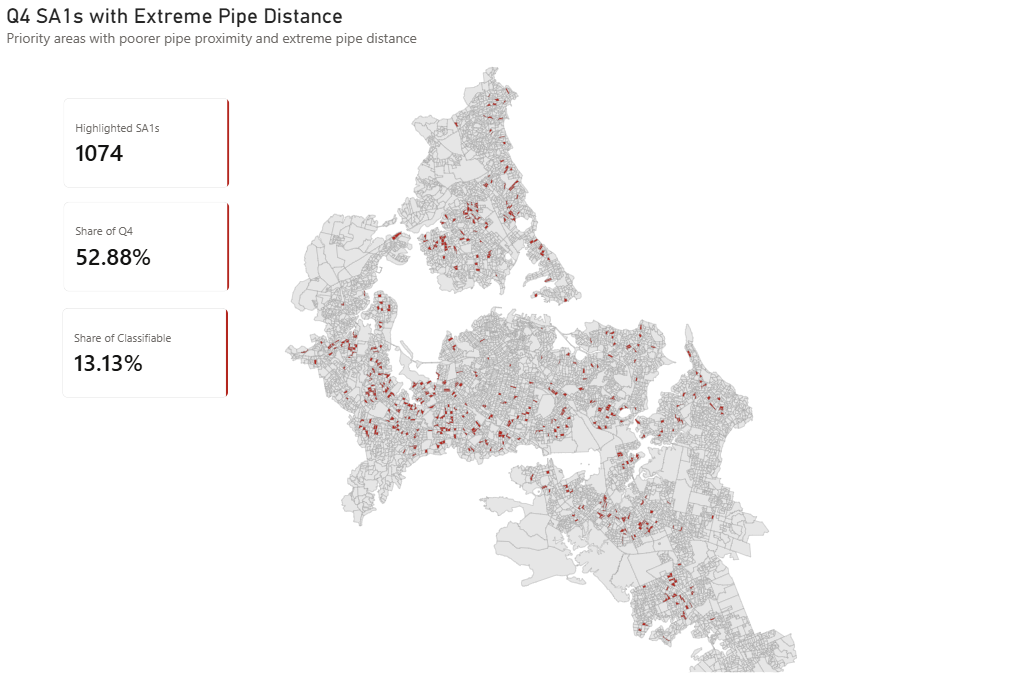

Layout of this report page (visuals, bound fields, positions):
{"tool":"powerbi","page":{"name":"Page 3","canvas":[1920,1080],"ordinal":2},"visuals":[{"type":"shapeMap","title":"Q4 SA1s with Extreme Pipe Distance","fields":{"Category":["MART_SA1_ACCESSIBILITY_QUADRANTS.SA1_ID"]},"box":[180,50,1500,1000],"z":0},{"type":"cardVisual","fields":{"Data":["MART_SA1_ACCESSIBILITY_QUADRANTS.Q4 Extreme Pipe Distance SA1s"]},"box":[278.7,202.7,240,130],"z":1000},{"type":"cardVisual","fields":{"Data":["MART_SA1_ACCESSIBILITY_QUADRANTS.Q4 Extreme Pipe Distance Share"]},"box":[278.7,352.9,240,130],"z":2000},{"type":"cardVisual","fields":{"Data":["MART_SA1_ACCESSIBILITY_QUADRANTS.Q4 Extreme Pipe Share of Classifiable"]},"box":[276.9,506.7,240,130],"z":3000}]}

Visuals, with their boxes on the page's 1920x1080 design canvas (x1, y1, x2, y2). These are canvas units, not pixel positions in the 1018x681 screenshot, which may show the page scaled, cropped or inside an application window:
"Q4 SA1s with Extreme Pipe Distance" shapeMap: x1=180, y1=50, x2=1680, y2=1050
cardVisual - MART_SA1_ACCESSIBILITY_QUADRANTS.Q4 Extreme Pipe Distance SA1s: x1=279, y1=203, x2=519, y2=333
cardVisual - MART_SA1_ACCESSIBILITY_QUADRANTS.Q4 Extreme Pipe Distance Share: x1=279, y1=353, x2=519, y2=483
cardVisual - MART_SA1_ACCESSIBILITY_QUADRANTS.Q4 Extreme Pipe Share of Classifiable: x1=277, y1=507, x2=517, y2=637
